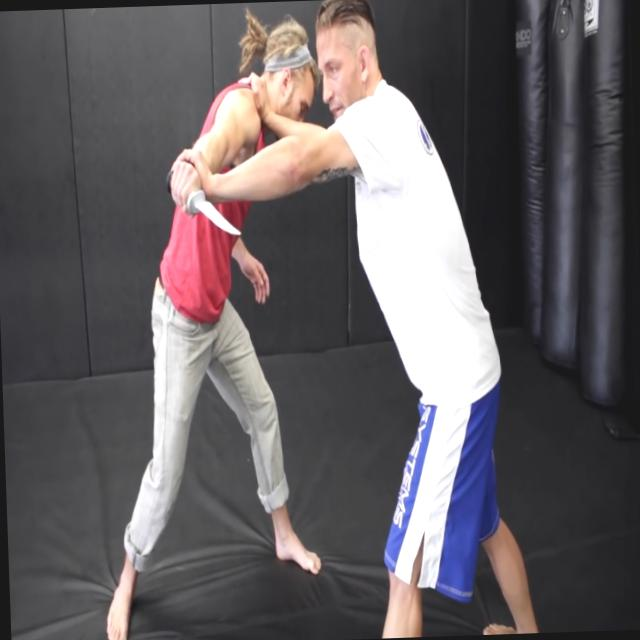knife: (162, 161, 245, 248)
